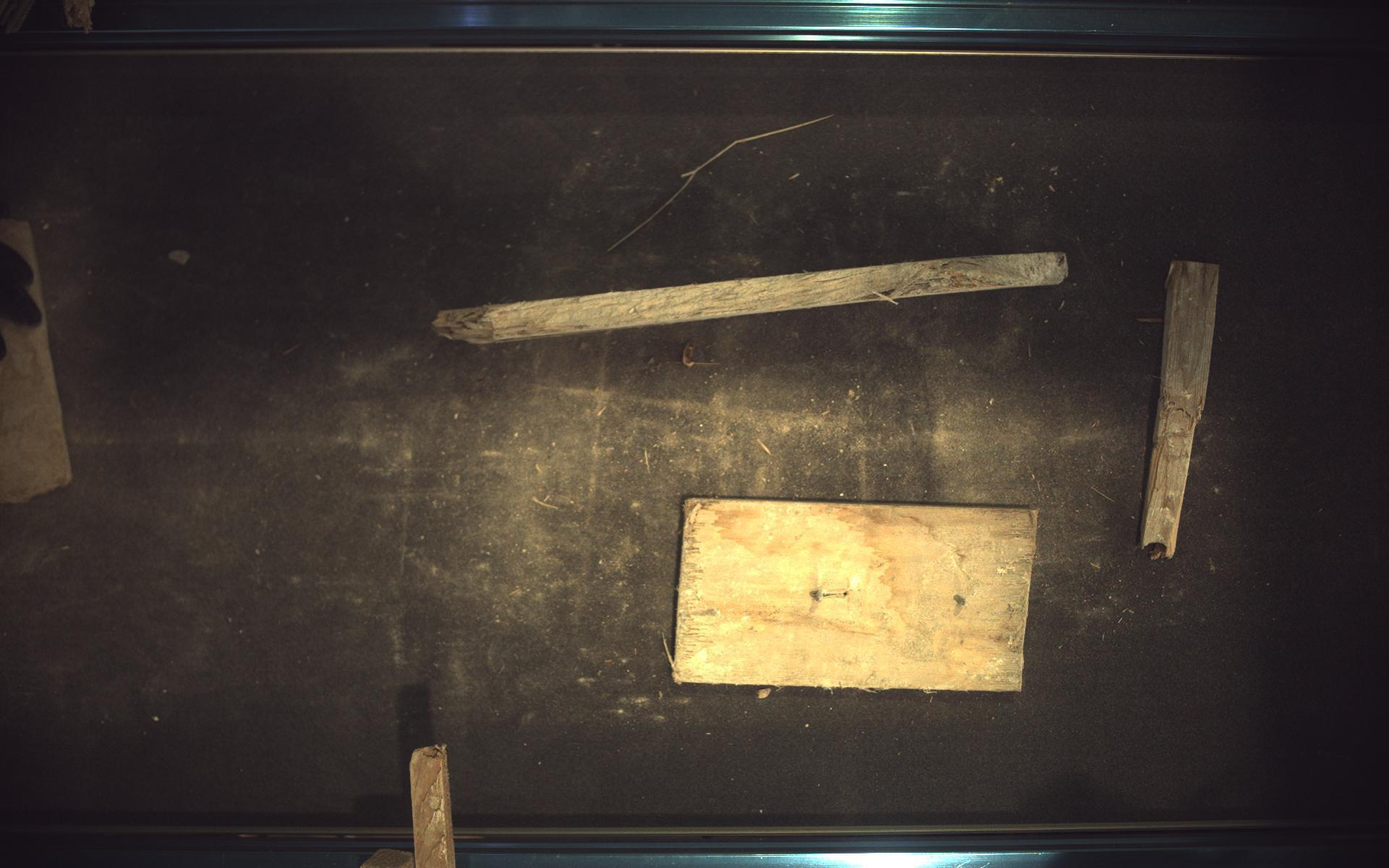wood: (674, 498, 1040, 692), (433, 251, 1070, 344), (1143, 260, 1223, 560)
